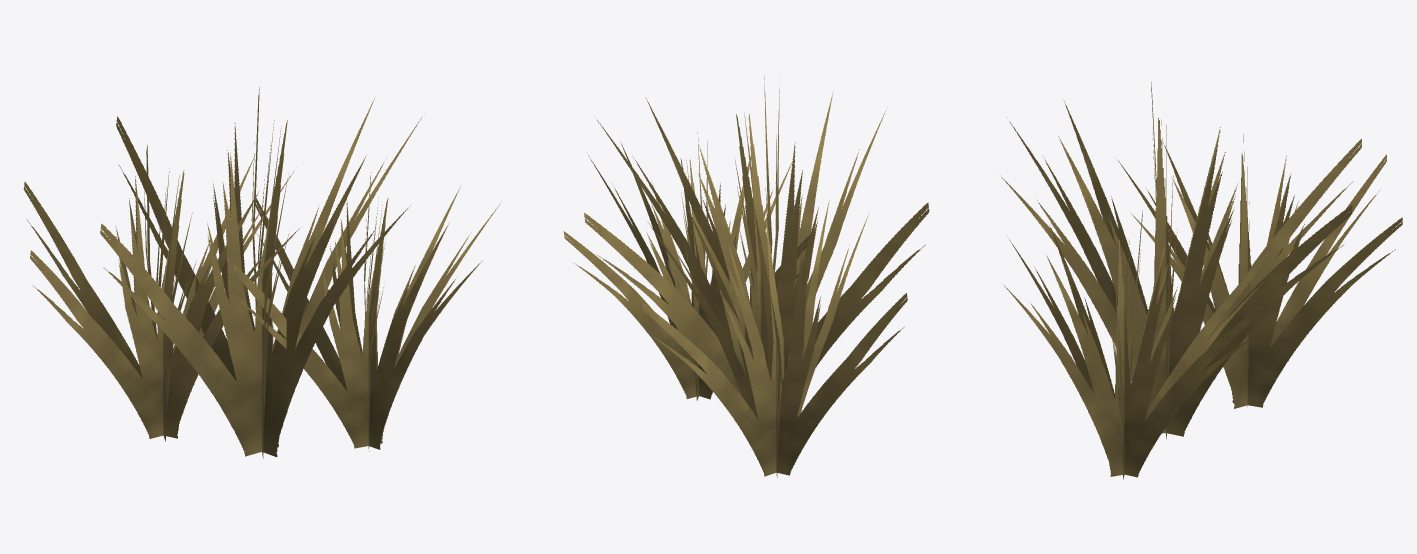
File: SM_Desert_GrassTuft_A.glb
3 views of the same model, side by side, from view 1: azimuth 30°, elevation 25°; view 2: azimuth 150°, elevation 25°; view 3: azimuth 270°, elevation 25° (orthographic). The views are drawn at different scales.
Visible parts, largest first — view 1: SM_Desert_GrassTuft_A; view 2: SM_Desert_GrassTuft_A; view 3: SM_Desert_GrassTuft_A.
Part boxes in pixels (x1,y1,x2,y2): SM_Desert_GrassTuft_A: (23, 87, 500, 458); SM_Desert_GrassTuft_A: (563, 74, 929, 477); SM_Desert_GrassTuft_A: (998, 82, 1402, 479).
Size of the model in its own units: 0.6133 by 0.46 by 0.5284.
Materials: 1 (1 with a texture image).
